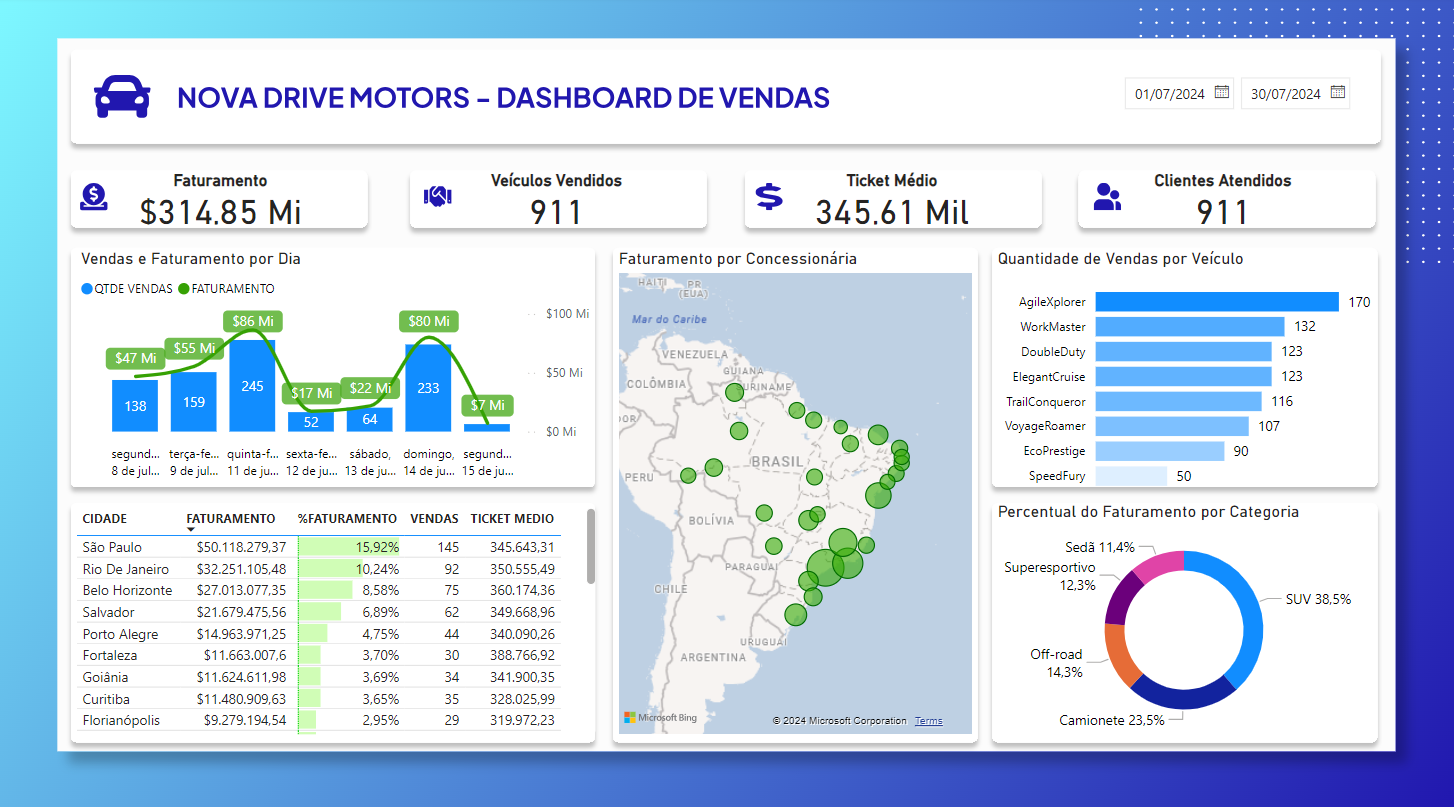

Layout of this report page (visuals, bound fields, positions):
{"tool":"powerbi","page":{"name":"Dashboard","canvas":[1280,720],"ordinal":1},"visuals":[{"type":"card","title":"Faturamento","fields":{"Values":["Medidas.TOTAL VENDAS"]},"box":[63.2,152.8,264.3,51.8],"z":0},{"type":"card","title":"Veículos Vendidos","fields":{"Values":["Medidas.QTDE VENDAS"]},"box":[361.8,152.8,257.3,51.8],"z":1000},{"type":"card","title":"Ticket Médio","fields":{"Values":["Medidas.TICKET MEDIO"]},"box":[656.8,152.8,256.4,51.8],"z":2000},{"type":"lineClusteredColumnComboChart","title":"Vendas e Faturamento por Dia","fields":{"Y":["Medidas.QTDE VENDAS"],"Y2":["Medidas.FATURAMENTO"],"Category":["dCalendario.data"]},"box":[67.6,221.3,457.5,209],"z":3000},{"type":"map","title":"Faturamento por Concessionária","fields":{"Category":["DIM_CONCESSIONARIAS.CIDADE"],"Size":["Medidas.FATURAMENTO"]},"box":[540,221.3,319.6,431.1],"z":4000},{"type":"tableEx","fields":{"Values":["DIM_CONCESSIONARIAS.CIDADE","Medidas.FATURAMENTO","Divide(Medidas.FATURAMENTO, ScopedEval(Medidas.FATURAMENTO, []))","Medidas.QTDE VENDAS","Medidas.TICKET MEDIO"]},"box":[63.2,443.4,467.1,209],"z":5000},{"type":"barChart","title":"Quantidade de Vendas por Veículo","fields":{"Y":["Medidas.QTDE VENDAS"],"Category":["DIM_VEICULOS.NOME_VEICULO"]},"box":[872.8,221.3,338,222.1],"z":6000},{"type":"donutChart","title":"Percentual do Faturamento por Categoria","fields":{"Category":["DIM_VEICULOS.Categoria"],"Y":["Medidas.FATURAMENTO"]},"box":[872.8,443.4,337.2,209],"z":7000},{"type":"slicer","fields":{"Values":["dCalendario.data"]},"box":[976.5,60.9,233.9,55.3],"z":8000},{"type":"card","title":"Clientes Atendidos","fields":{"Values":["Medidas.QTDE CLIENTES"]},"box":[947.4,152.8,256.4,51.8],"z":9000}]}

Visuals, with their boxes in screenshot pixels (x1, y1, x2, y2), scaled from the page's 1280x720 canvas onto the 1454x807 screenshot:
"Faturamento" card: crop(72, 171, 372, 229)
"Veículos Vendidos" card: crop(411, 171, 703, 229)
"Ticket Médio" card: crop(746, 171, 1037, 229)
"Vendas e Faturamento por Dia" lineClusteredColumnComboChart: crop(77, 248, 596, 482)
"Faturamento por Concessionária" map: crop(613, 248, 976, 731)
tableEx - DIM_CONCESSIONARIAS.CIDADE x Medidas.FATURAMENTO: crop(72, 497, 602, 731)
"Quantidade de Vendas por Veículo" barChart: crop(991, 248, 1375, 497)
"Percentual do Faturamento por Categoria" donutChart: crop(991, 497, 1374, 731)
slicer - dCalendario.data: crop(1109, 68, 1375, 130)
"Clientes Atendidos" card: crop(1076, 171, 1367, 229)
